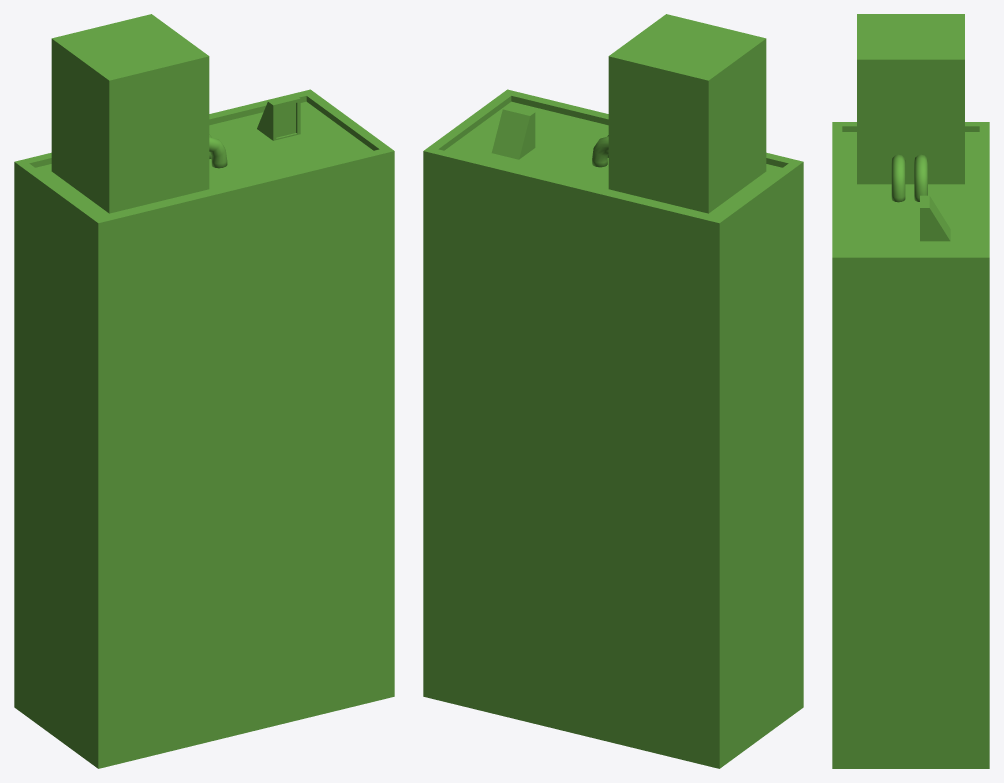
Rendered from Building9_green.fbx.
3 renders of one model, left to right at view 1: azimuth 30°, elevation 25°; view 2: azimuth 150°, elevation 25°; view 3: azimuth 270°, elevation 25°, orthographic. The views are drawn at different scales.
Parts seen in each view (by area): view 1: Building 9; view 2: Building 9; view 3: Building 9.
Boxes of the visible parts, left/top/right/bottom form: Building 9: left=14, top=14, right=394, bottom=768; Building 9: left=423, top=14, right=803, bottom=768; Building 9: left=832, top=14, right=989, bottom=768.
Size of the model in its own units: 2416 by 5243 by 1188.
Materials: 1 (1 with a texture image).
